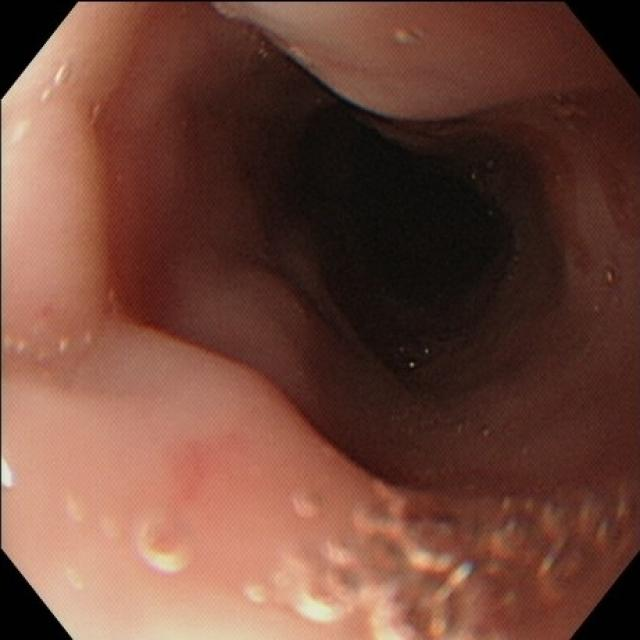E: (287, 122, 513, 344)
T: (276, 484, 631, 635)
